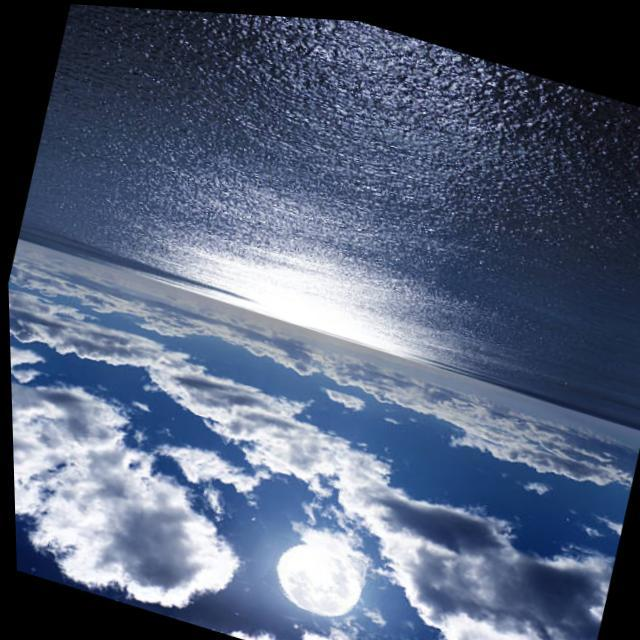moon: (256, 530, 366, 624)
